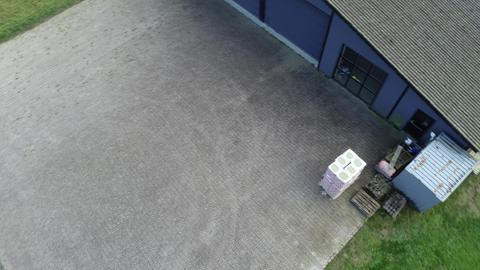RockwoolPallet: (320, 149, 368, 201)
